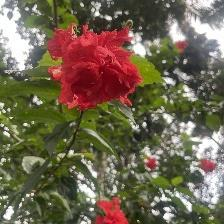hibiscus: (44, 19, 145, 115)
